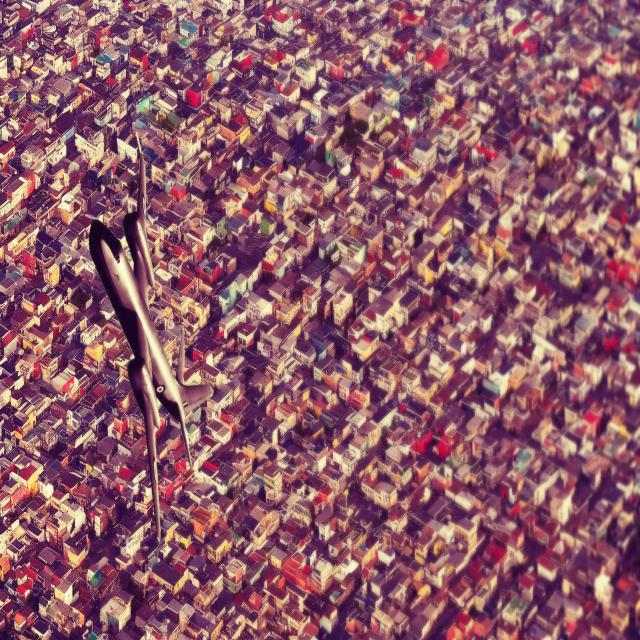airplane: (88, 132, 214, 544)
